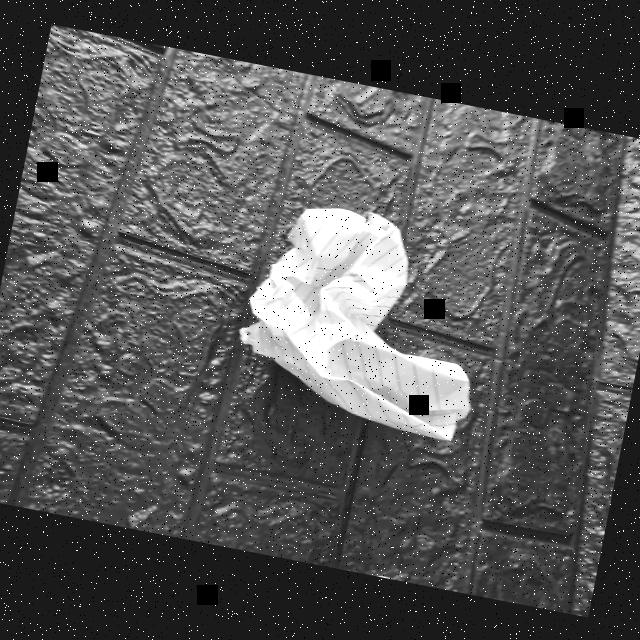scrap_paper: (240, 184, 502, 450)
